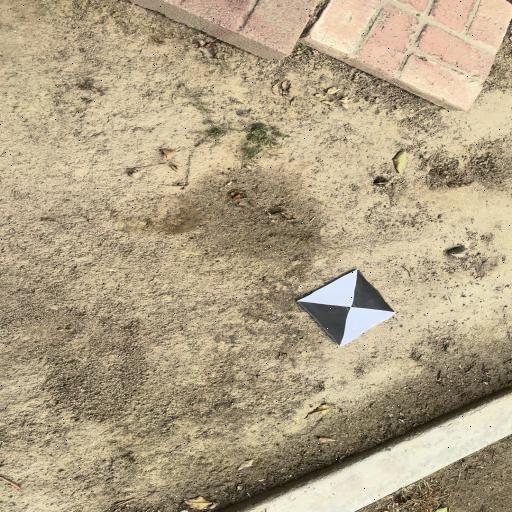target: (297, 270, 396, 346)
